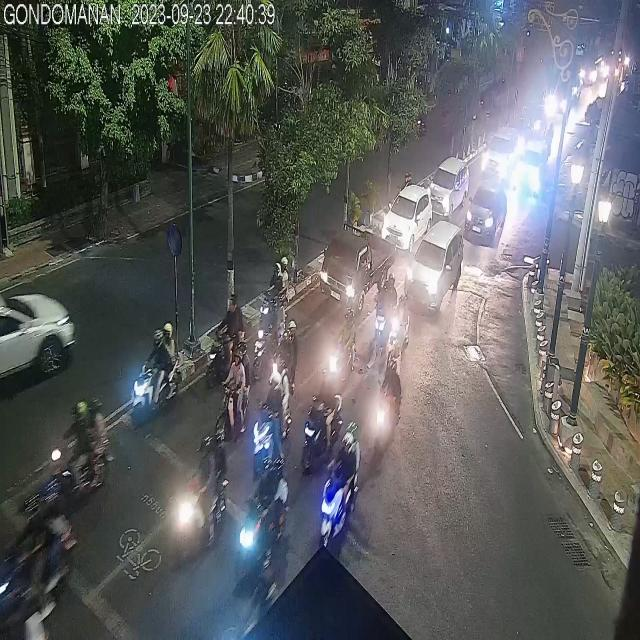car: (0, 282, 73, 394), (406, 220, 464, 314), (383, 188, 430, 248), (462, 181, 508, 239), (429, 157, 468, 218), (482, 126, 520, 182)
motorcycle: (1, 480, 72, 624), (165, 436, 223, 549), (48, 401, 111, 499), (319, 424, 367, 552), (240, 458, 288, 576), (128, 322, 185, 418), (303, 365, 343, 471), (211, 346, 253, 441), (252, 372, 288, 472), (207, 296, 250, 378), (252, 302, 289, 382), (375, 363, 401, 464), (330, 310, 363, 385), (259, 253, 292, 323), (272, 326, 302, 395), (385, 293, 411, 369), (372, 276, 391, 354)
truck: (318, 222, 397, 314)
